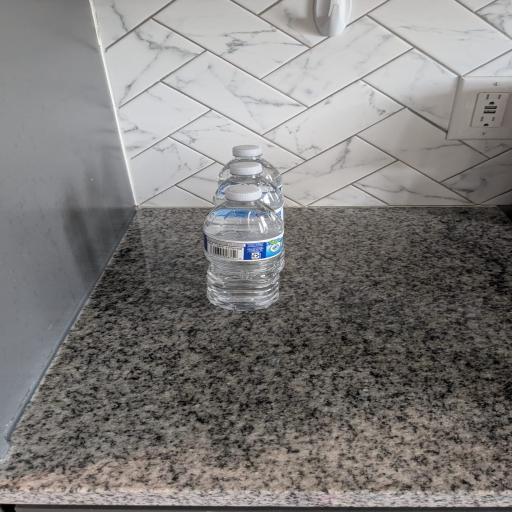waterbottle: (204, 185, 283, 310), (214, 162, 283, 219), (218, 145, 282, 189)
